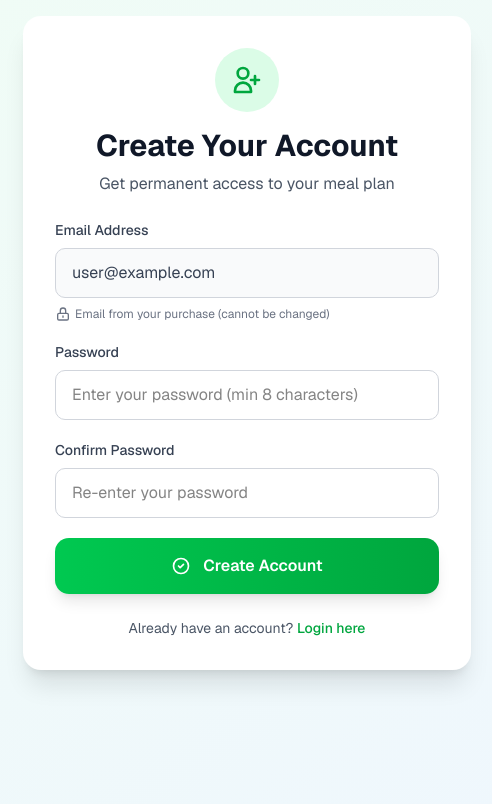
CreateAccountPage › Form Validation › should validate password minimum length
Type "short" into the password field labelled "Password" at (247, 395), box top-left (55, 370), bottom-right (439, 420)
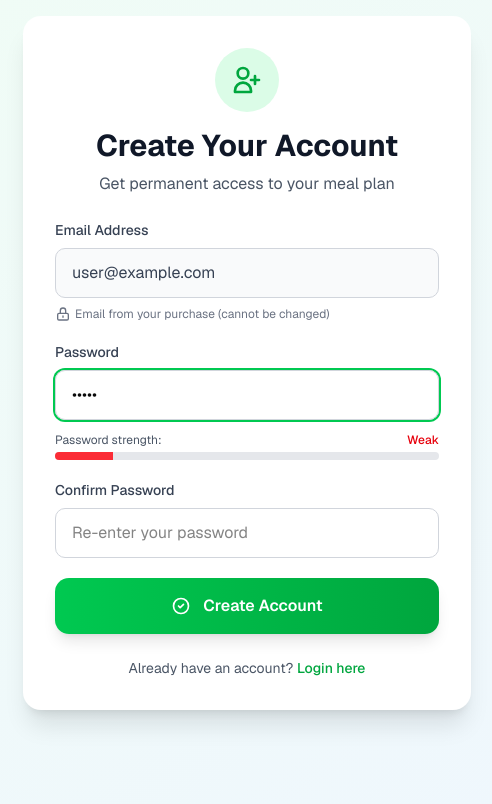
Click the button "Create Account" at (247, 606), box top-left (55, 578), bottom-right (439, 634)
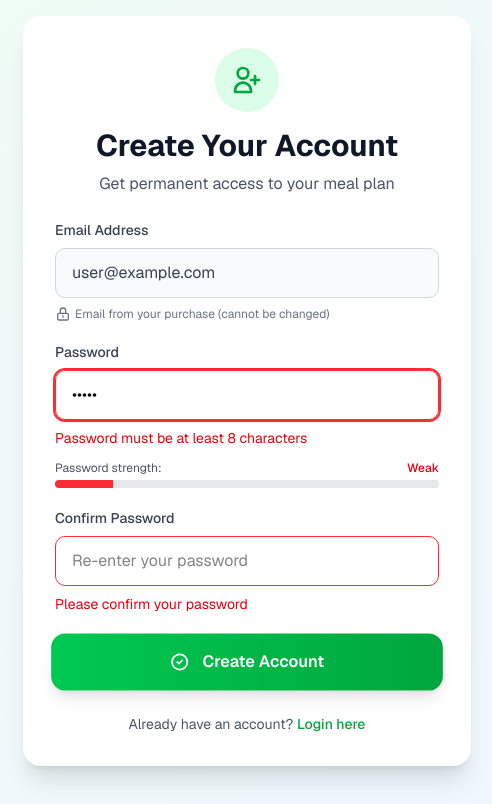
Expected: the text "Password must be at least 8 characters" is shown, top-left (55, 429), bottom-right (307, 447)
